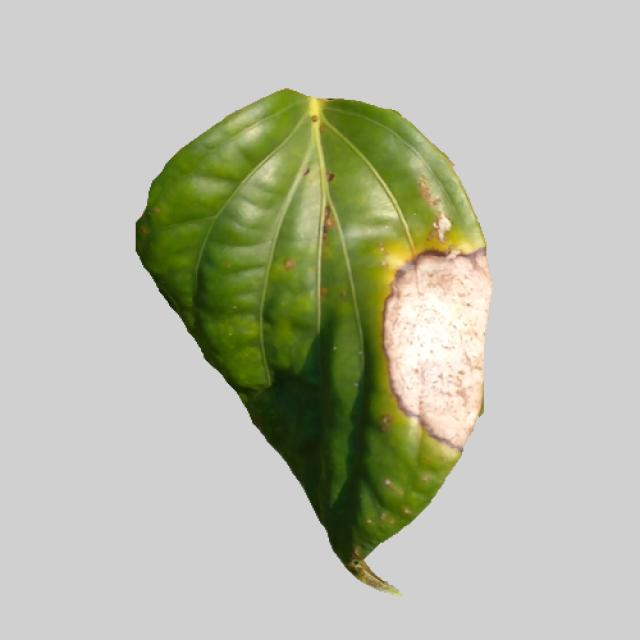leaf-blight: (120, 93, 496, 598)
